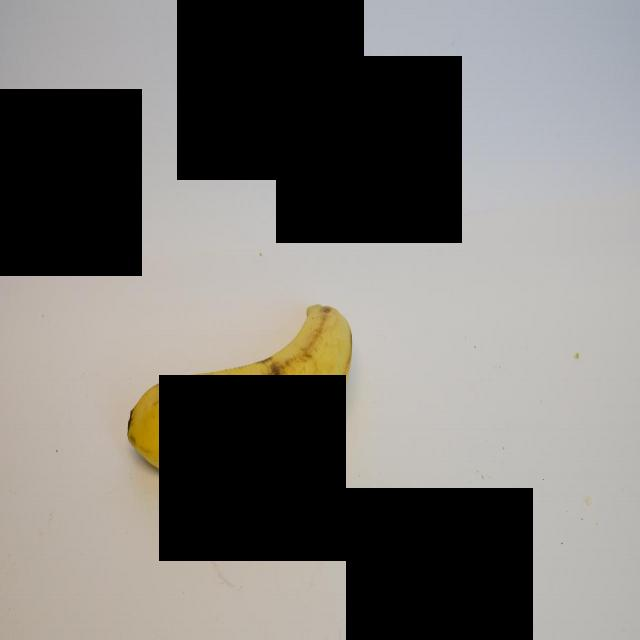banana: (124, 300, 353, 479)
